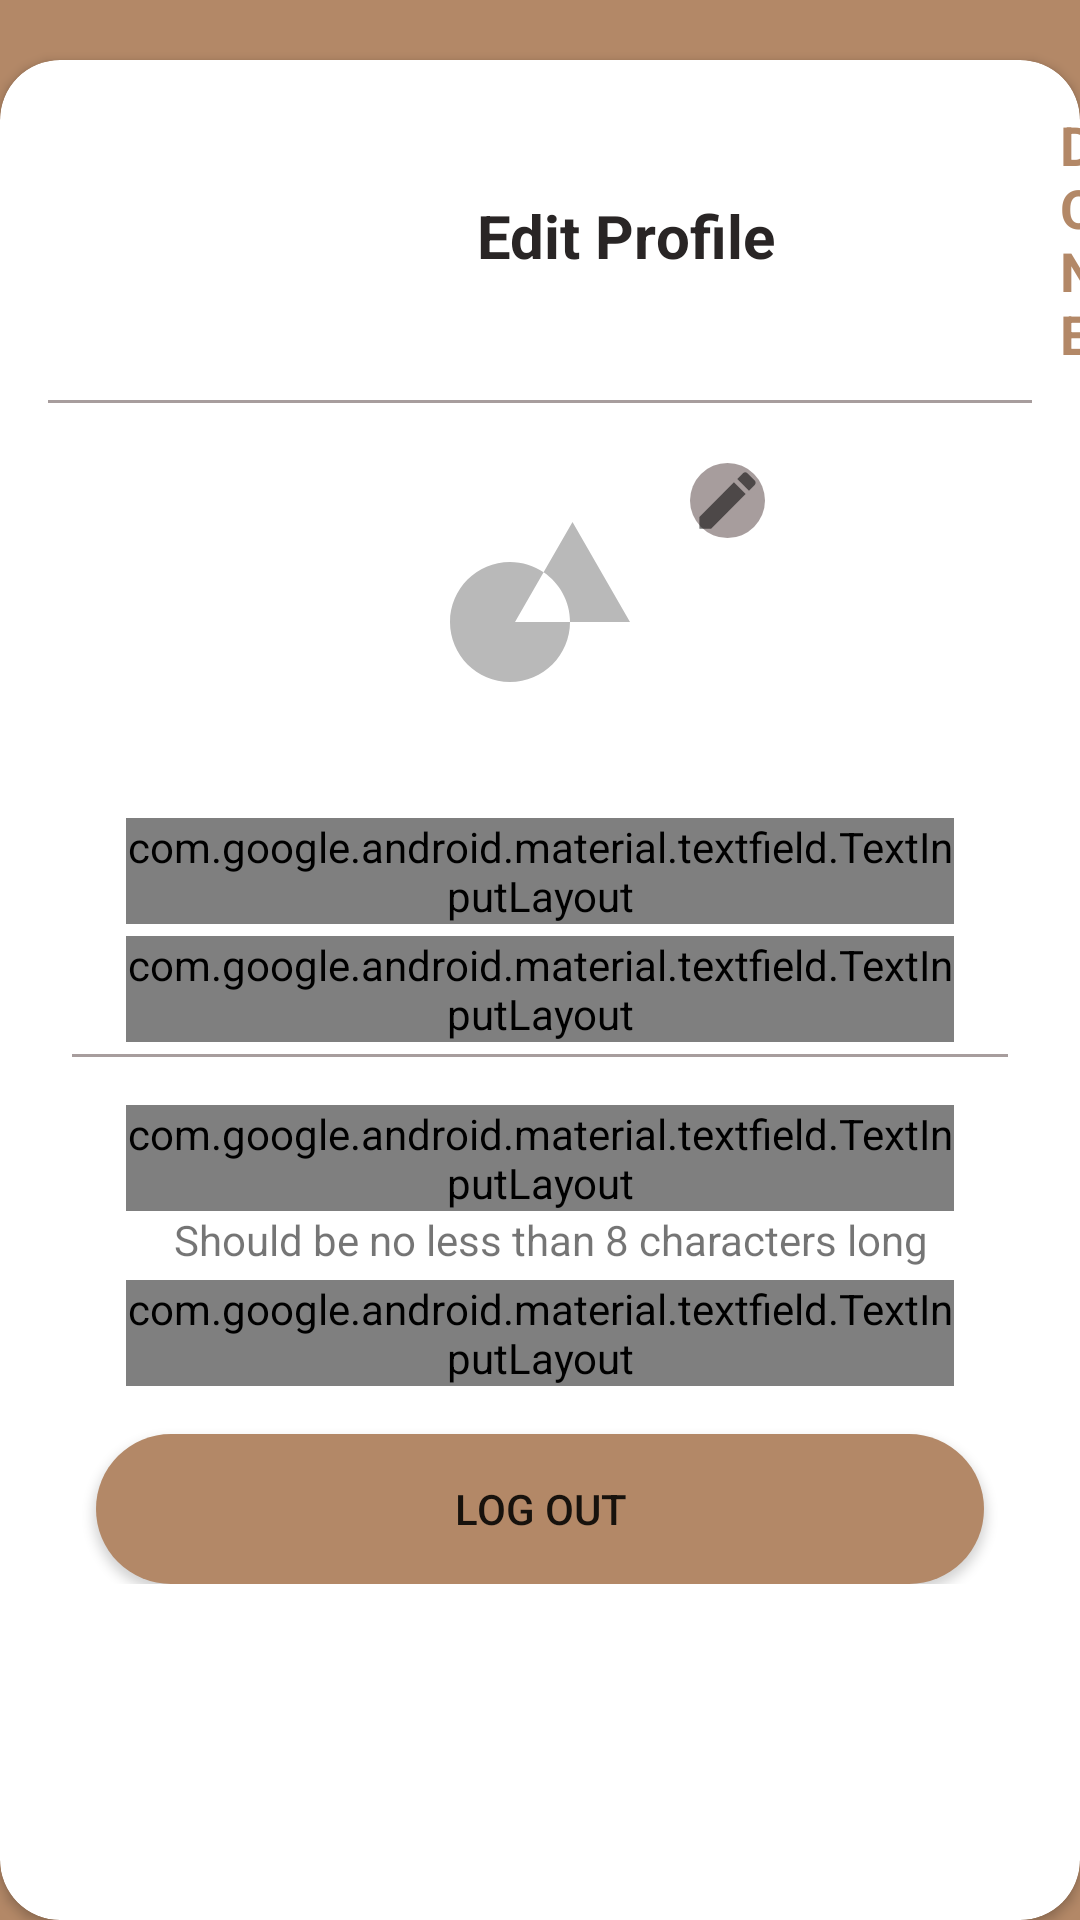

Icon bounding boxes for this 1080x1920 phone screenshot, format (x1, y1, x2, y2):
pencil: (690, 463, 765, 538)
